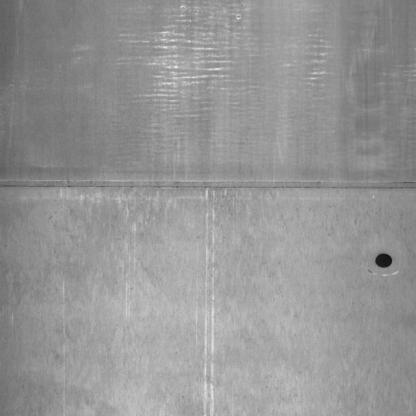punching_hole: (374, 246, 394, 271)
welding_line: (1, 164, 414, 205)
